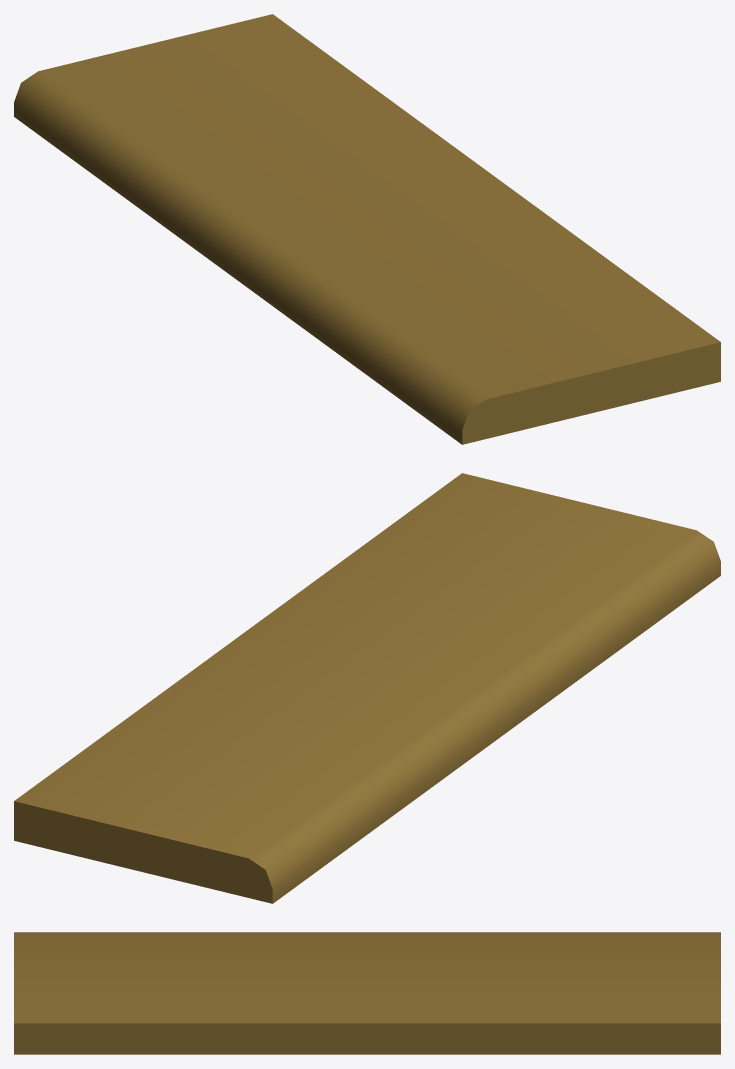
Rendered from DI_032_shelf_var01.glb.
3 views of the same model, one above another, from view 1: azimuth 30°, elevation 25°; view 2: azimuth 150°, elevation 25°; view 3: azimuth 270°, elevation 25° (orthographic). The views are drawn at different scales.
Visible parts, largest first — view 1: Shelf.001; view 2: Shelf.001; view 3: Shelf.001.
Part boxes in pixels (x1=…): Shelf.001: x1=14, y1=14, x2=720, y2=444; Shelf.001: x1=14, y1=473, x2=720, y2=903; Shelf.001: x1=14, y1=932, x2=720, y2=1054.
Size of the model in its own units: 0.75 by 0.1097 by 2.25.
